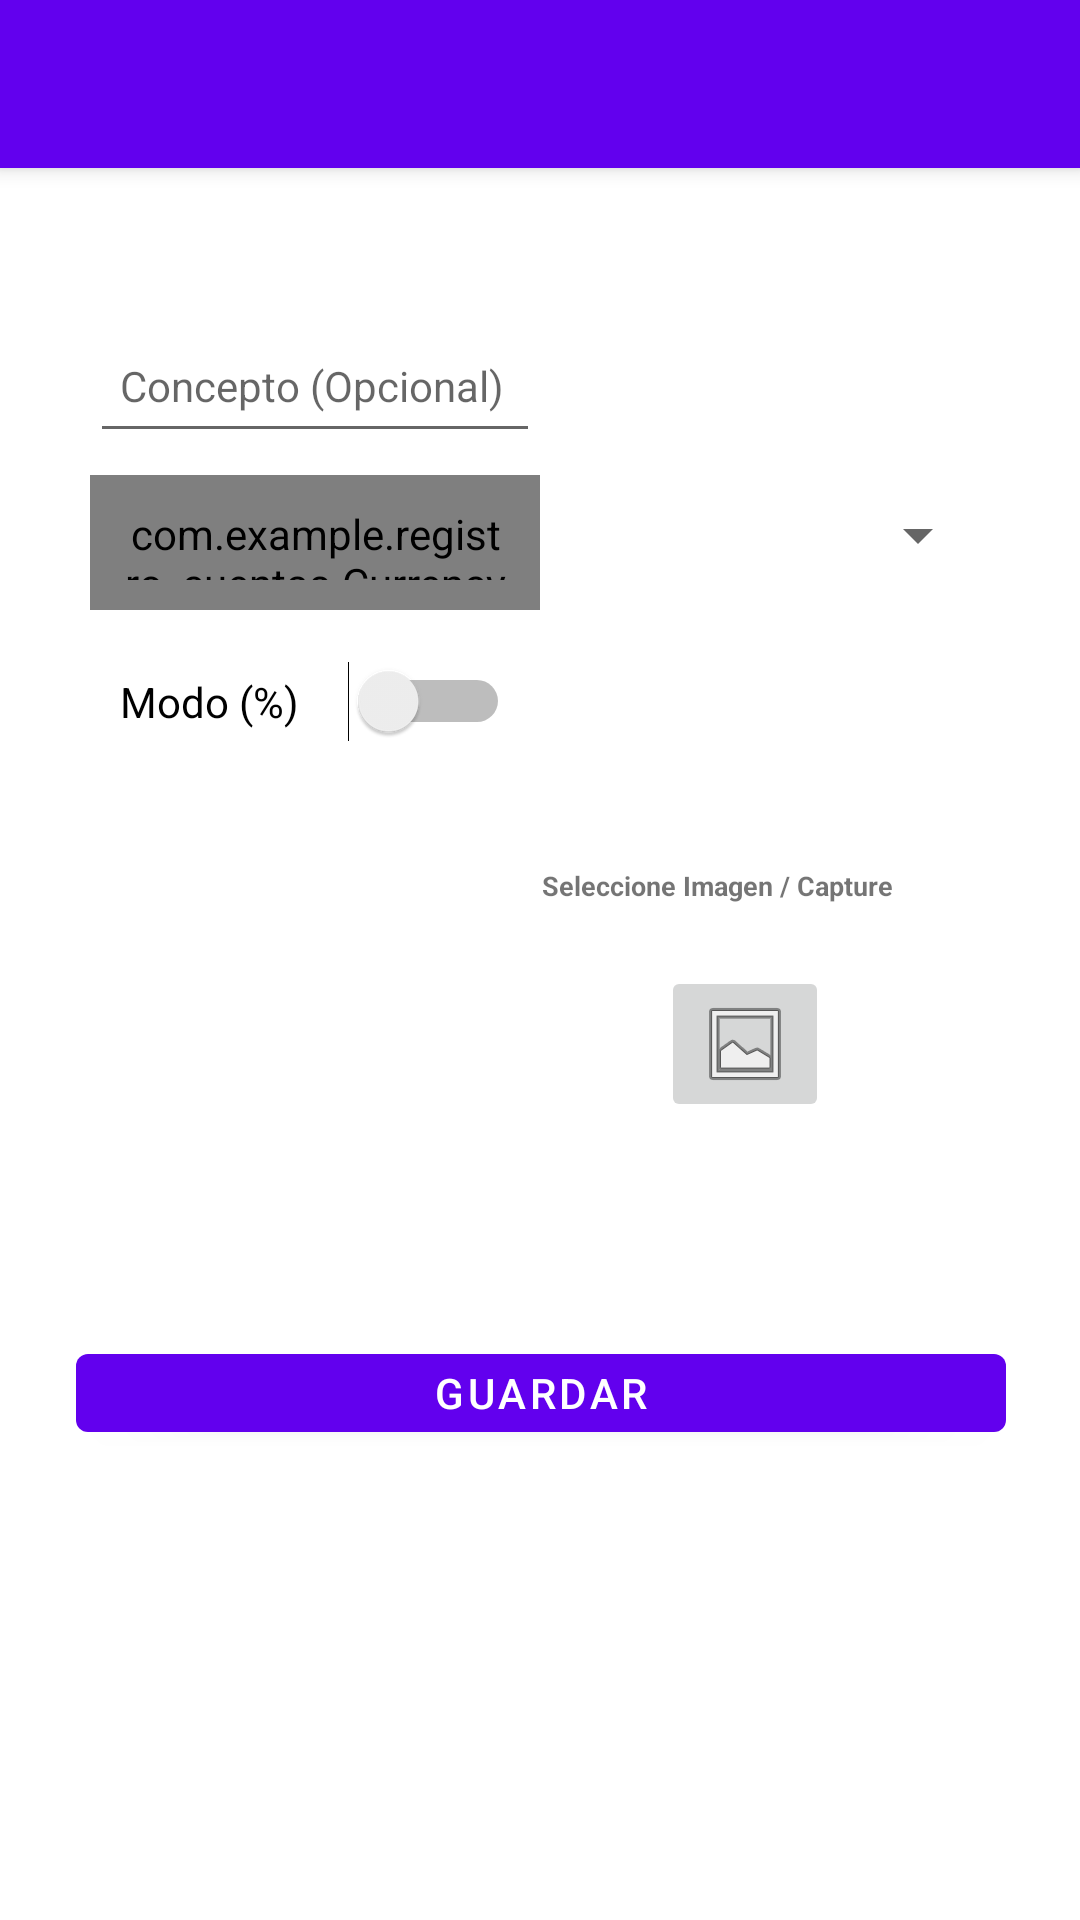

Icon bounding boxes for this 1080 × 1920 phone screenshot, format {"x1": x1, "y1": y1, "x2": x2, "y2": y2}:
gallery: {"x1": 673, "y1": 984, "x2": 817, "y2": 1104}
